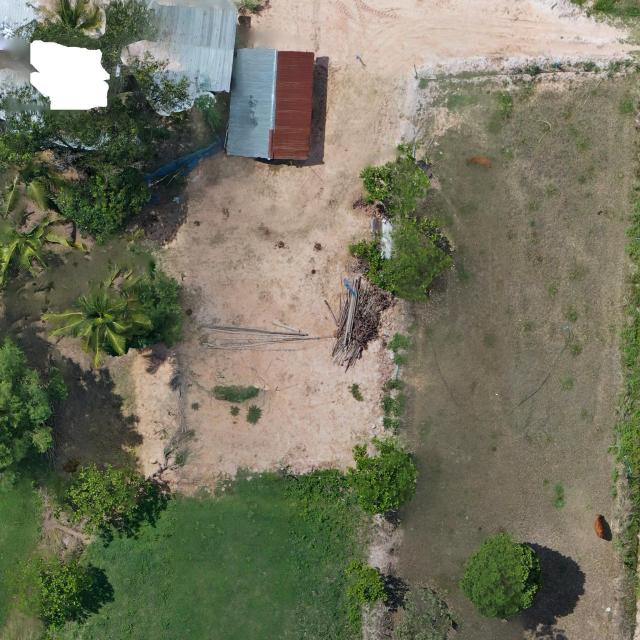Tree: (0, 0, 192, 249), (40, 265, 154, 370), (0, 335, 70, 473), (348, 215, 453, 304), (458, 532, 542, 620), (66, 461, 156, 541), (344, 442, 419, 516), (0, 211, 72, 288), (358, 155, 431, 216), (38, 565, 94, 625), (342, 558, 390, 604)
